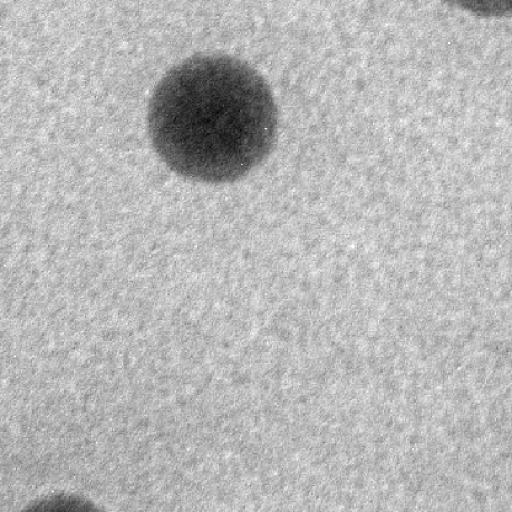Nanoparticles: (143, 47, 283, 187), (14, 488, 112, 512), (444, 0, 512, 24)
